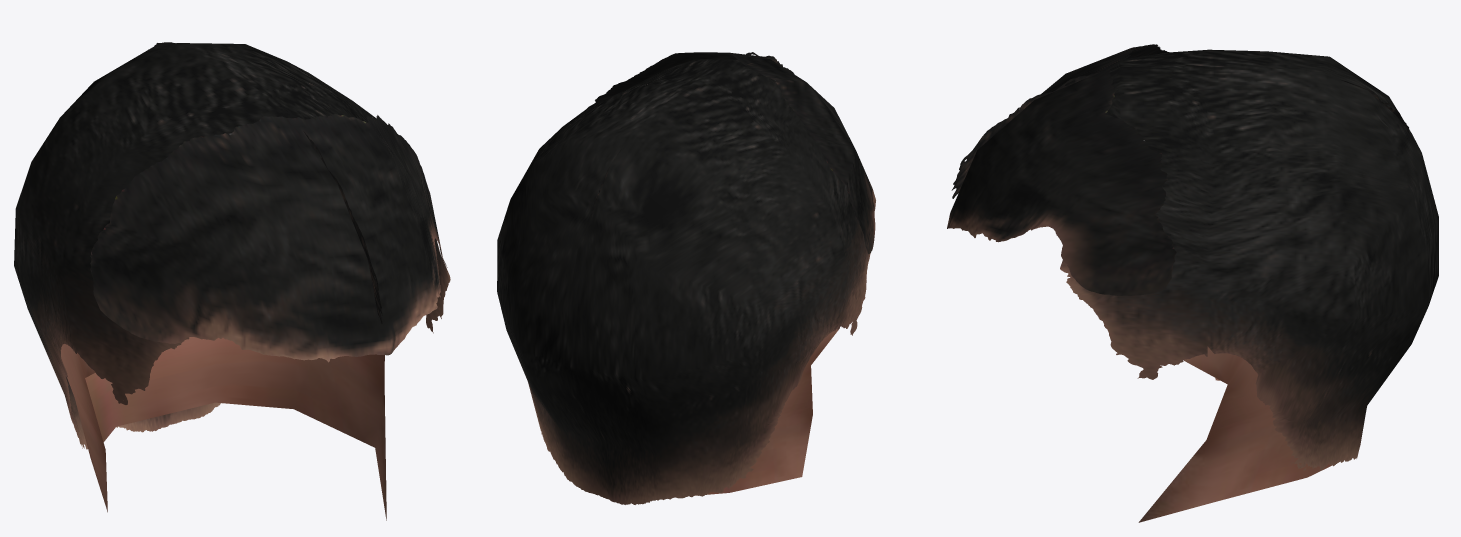
Rendered from esp-pedri.glb.
3 renders of one model, left to right at view 1: azimuth 30°, elevation 25°; view 2: azimuth 150°, elevation 25°; view 3: azimuth 270°, elevation 25°, orthographic. The views are drawn at different scales.
Visible parts, largest first — view 1: hair; view 2: hair; view 3: hair.
Boxes of the visible parts, box(x1,y1,x2,y2) form: hair: box(14, 42, 450, 520); hair: box(497, 52, 875, 504); hair: box(947, 44, 1438, 522).
Bounding box in the file's own units: 0.1612 × 0.1932 × 0.2212.
Materials: 2 (2 with a texture image).
